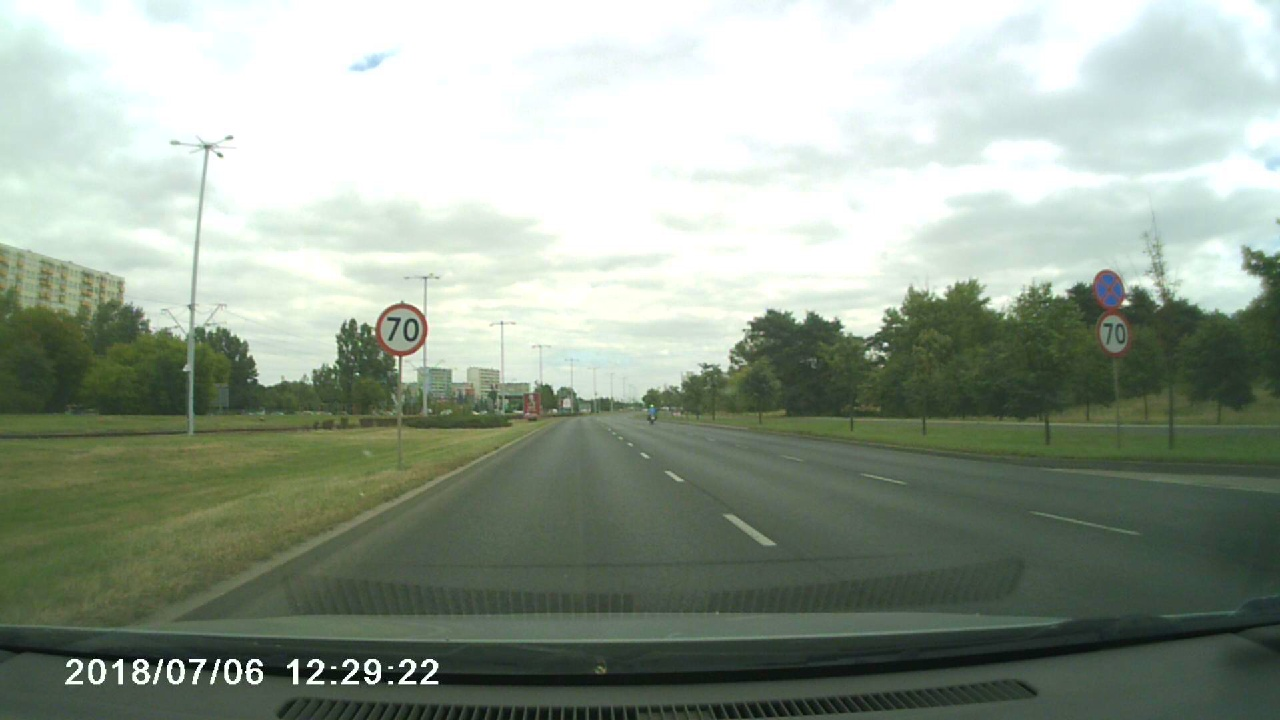B33_70: (375, 304, 426, 358), (1097, 311, 1131, 357)
B36: (1093, 270, 1126, 311)
